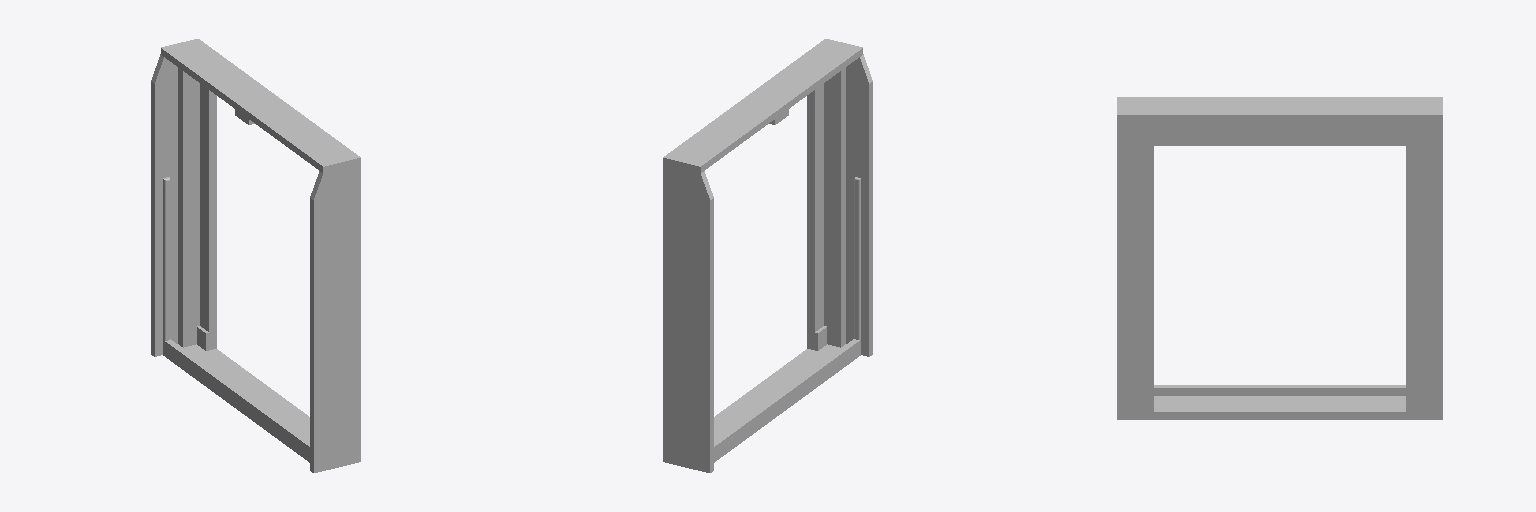
The model's file is Prints_led_cap.001.obj.
3 renders of one model, left to right at view 1: azimuth 30°, elevation 25°; view 2: azimuth 150°, elevation 25°; view 3: azimuth 270°, elevation 25°, orthographic.
Parts seen in each view (by area): view 1: led_cap.001; view 2: led_cap.001; view 3: led_cap.001.
Boxes of the visible parts, x1,y1,x2,y2 form: led_cap.001: [151, 39, 360, 472]; led_cap.001: [663, 39, 872, 472]; led_cap.001: [1117, 97, 1442, 419].
Bounding box in the file's own units: 0.0082 × 0.0503 × 0.0487.